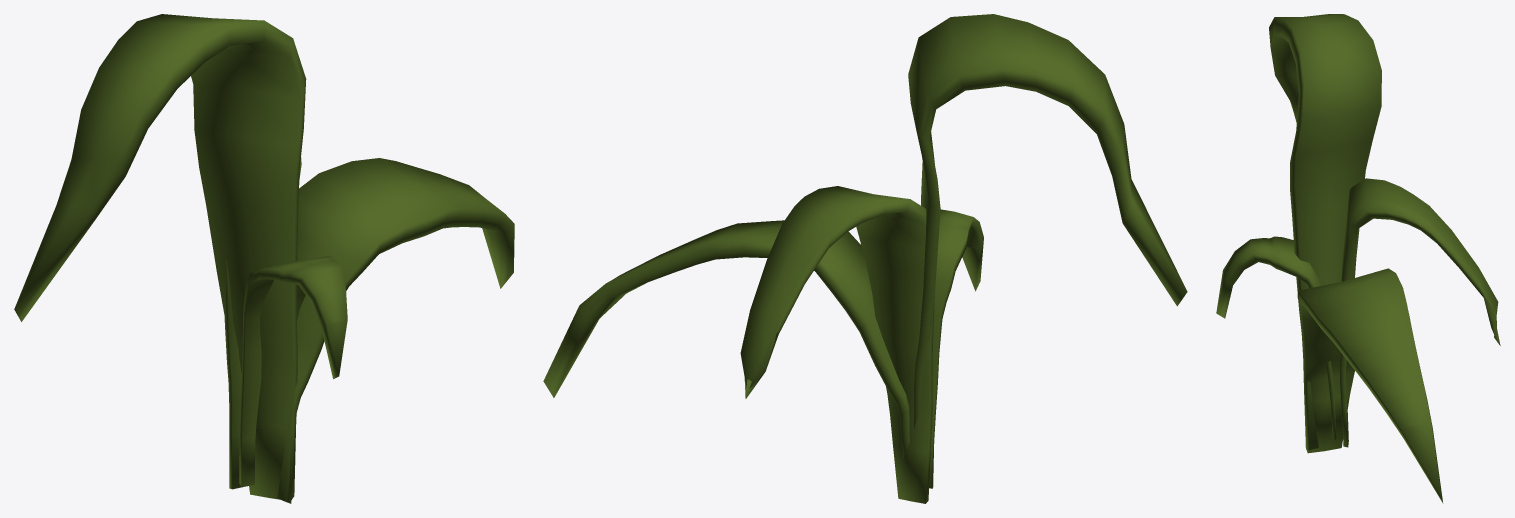
File: SadPlant.fbx
The picture shows the model from 3 angles, left to right: view 1: azimuth 30°, elevation 25°; view 2: azimuth 150°, elevation 25°; view 3: azimuth 270°, elevation 25°; orthographic projection. The views are drawn at different scales.
Parts seen in each view (by area): view 1: PlantSad; view 2: PlantSad; view 3: PlantSad.
Part boxes in pixels (x1,y1,x2,y2): PlantSad: (14,14,514,503); PlantSad: (543,14,1187,503); PlantSad: (1216,14,1500,503).
Size of the model in its own units: 62.06 by 50.76 by 32.91.
